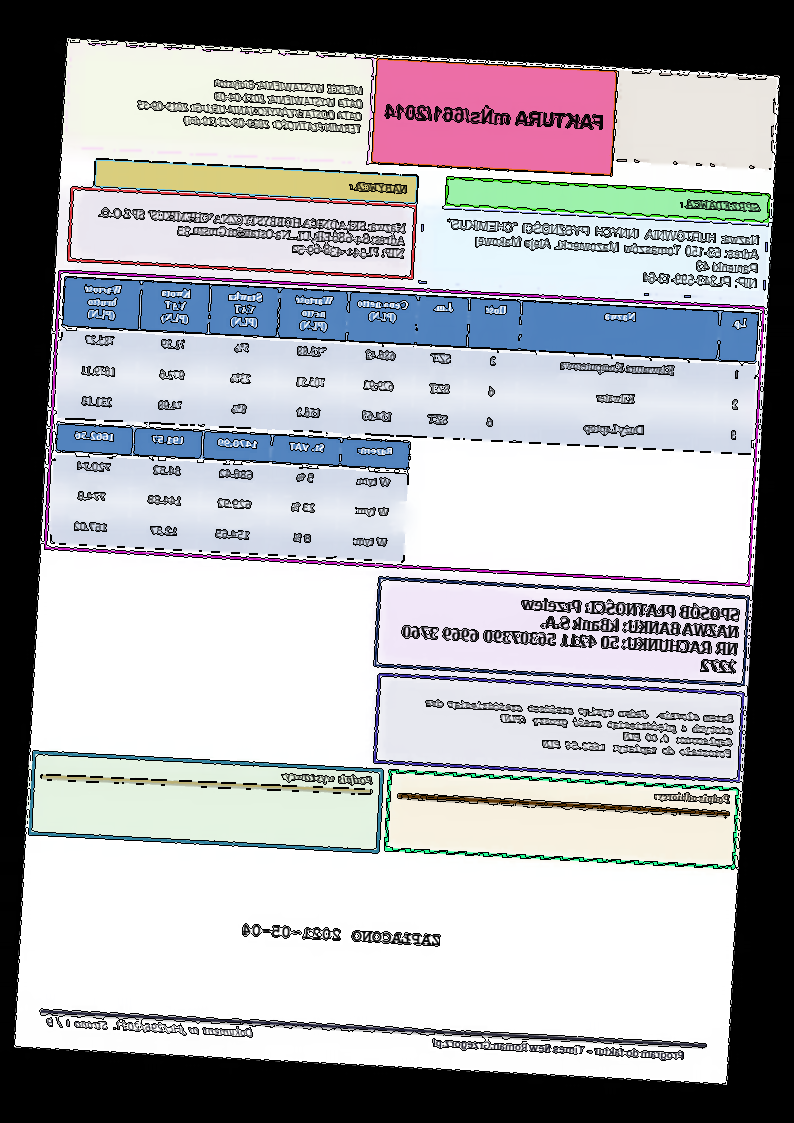Table: (57, 275, 760, 456), (49, 421, 412, 563)
TextBox: (400, 588, 743, 676), (442, 215, 762, 292), (421, 695, 736, 761), (94, 204, 409, 262), (135, 72, 365, 136), (382, 99, 605, 132), (431, 1036, 686, 1064), (239, 921, 443, 949), (45, 1015, 256, 1040), (280, 769, 375, 788), (655, 788, 732, 807), (679, 197, 762, 214), (348, 180, 411, 196)
